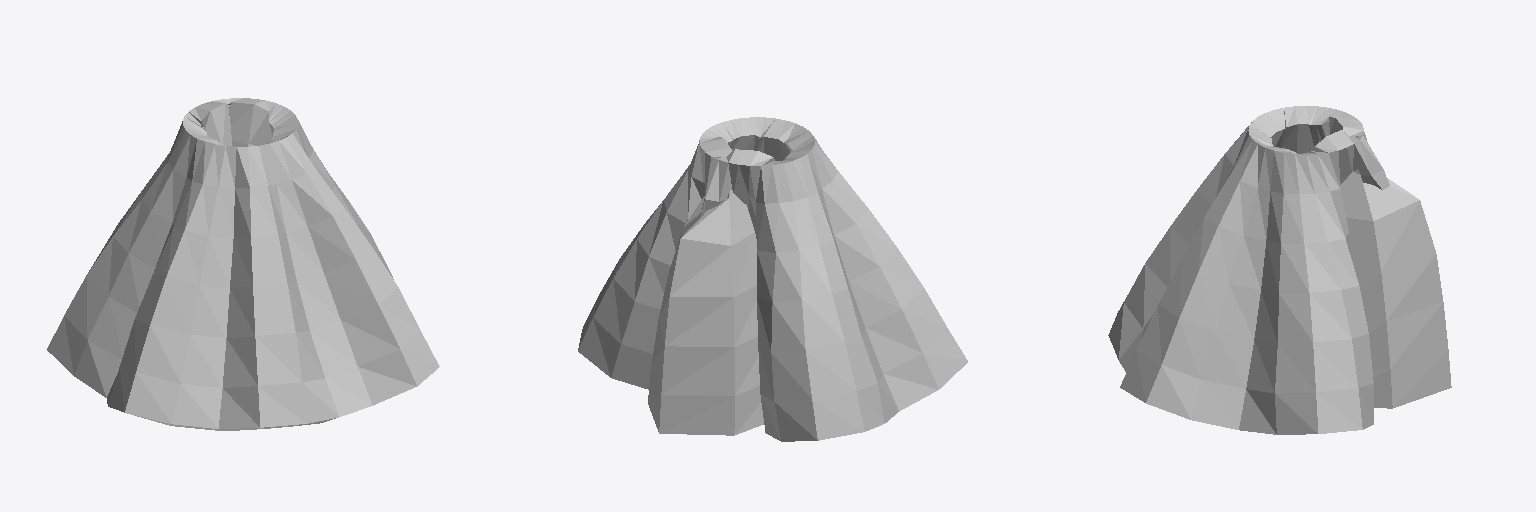
File: skirt2.obj
The picture shows the model from 3 angles: view 1: azimuth 30°, elevation 25°; view 2: azimuth 150°, elevation 25°; view 3: azimuth 270°, elevation 25°; orthographic projection.
Visible parts, largest first — view 1: Sphere; view 2: Sphere; view 3: Sphere.
Part boxes in pixels (x1,y1,x2,y2): Sphere: (47,98,439,430); Sphere: (578,117,967,441); Sphere: (1108,106,1451,434).
Bounding box in the file's own units: 4.47 × 3.34 × 4.01.